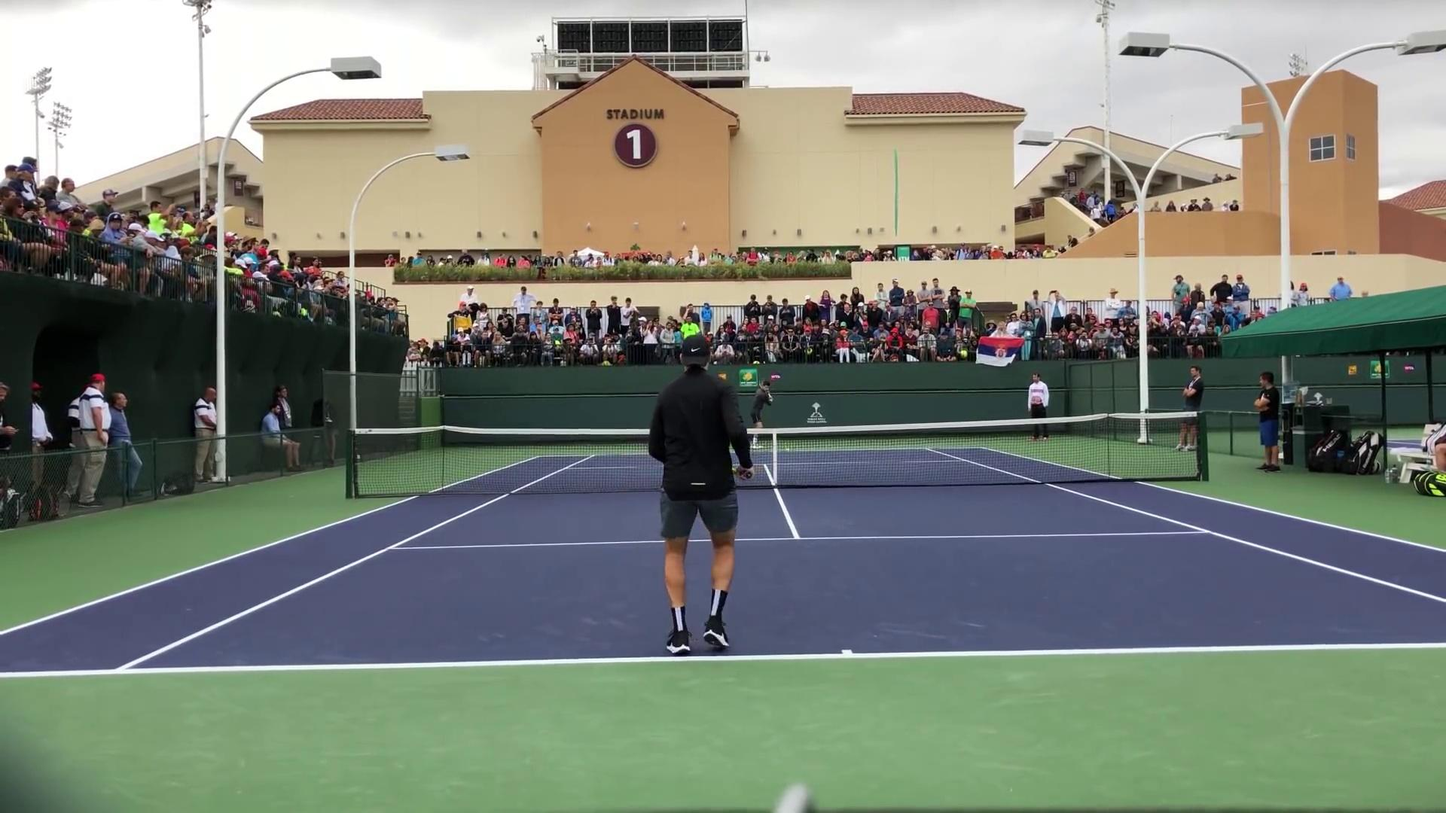ball: (782, 445, 794, 456)
